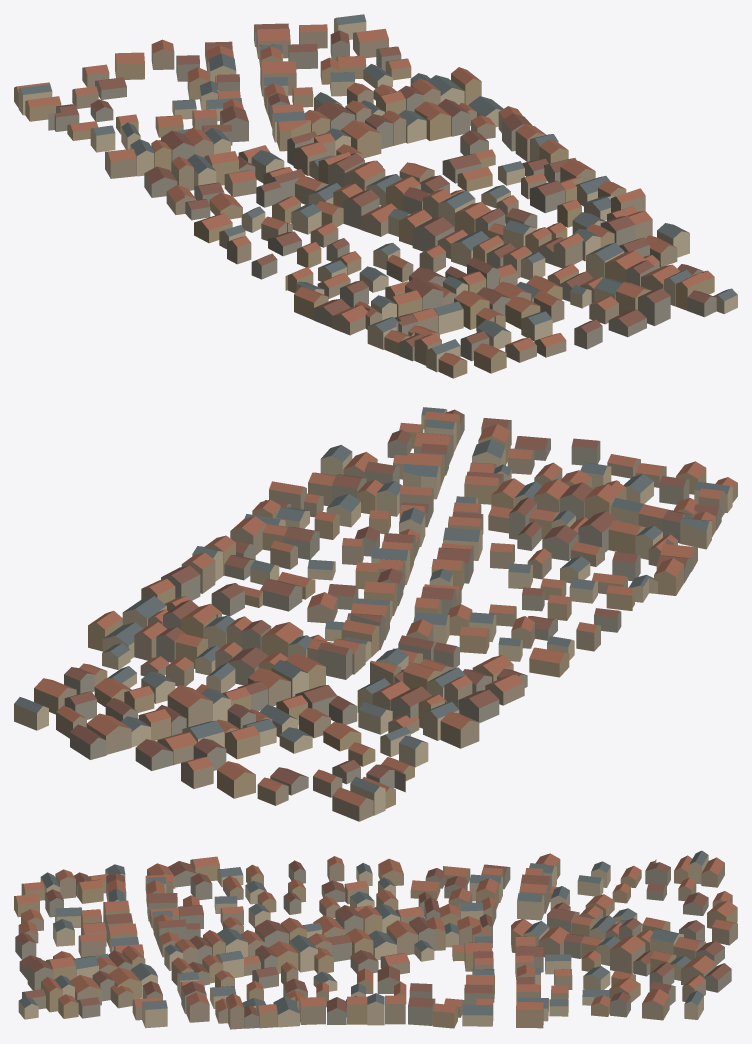
3 renders of one model, top to bottom at view 1: azimuth 30°, elevation 25°; view 2: azimuth 150°, elevation 25°; view 3: azimuth 270°, elevation 25°, orthographic. The views are drawn at different scales.
Visible parts, largest first — view 1: C_-2_2; view 2: C_-2_2; view 3: C_-2_2.
Part boxes in pixels (left/top/right/bottom): C_-2_2: left=14, top=14, right=737, bottom=378; C_-2_2: left=14, top=407, right=737, bottom=821; C_-2_2: left=14, top=850, right=737, bottom=1029.
Size of the model in its own units: 192 by 14.46 by 370.
